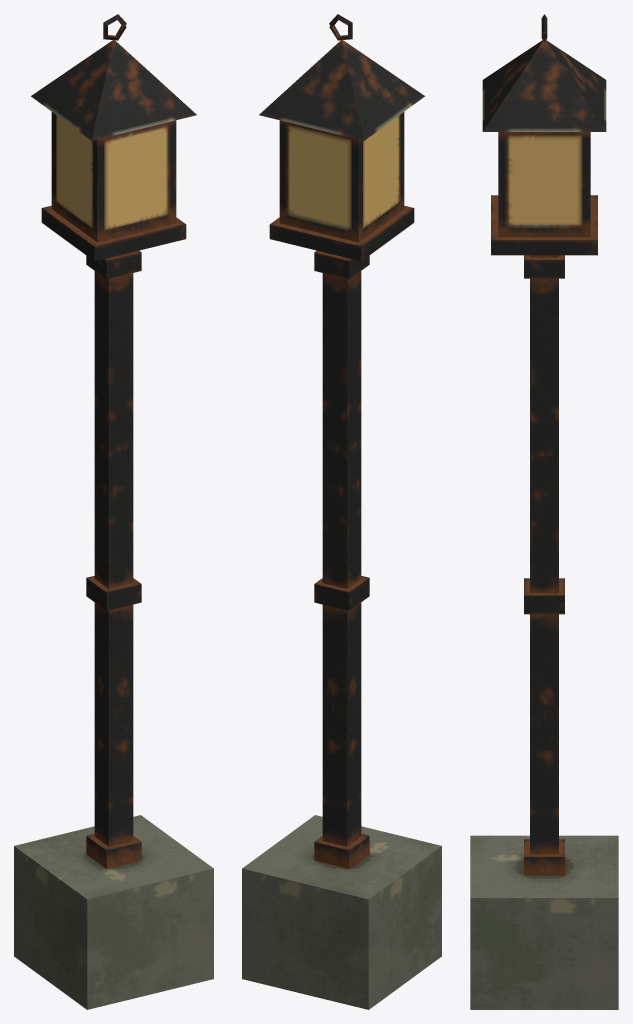
The model's file is Lamp_Post_01.obj.
3 renders of one model, left to right at view 1: azimuth 30°, elevation 25°; view 2: azimuth 150°, elevation 25°; view 3: azimuth 270°, elevation 25°, orthographic.
Visible parts, largest first — view 1: Lamp_Post_01; view 2: Lamp_Post_01; view 3: Lamp_Post_01.
Part boxes in pixels (x1,y1,x2,y2): Lamp_Post_01: (14,14,213,1009); Lamp_Post_01: (242,14,441,1009); Lamp_Post_01: (470,14,618,1009).
Size of the model in its own units: 0.36 by 2.59 by 0.36.
Materials: 1 (1 with a texture image).
